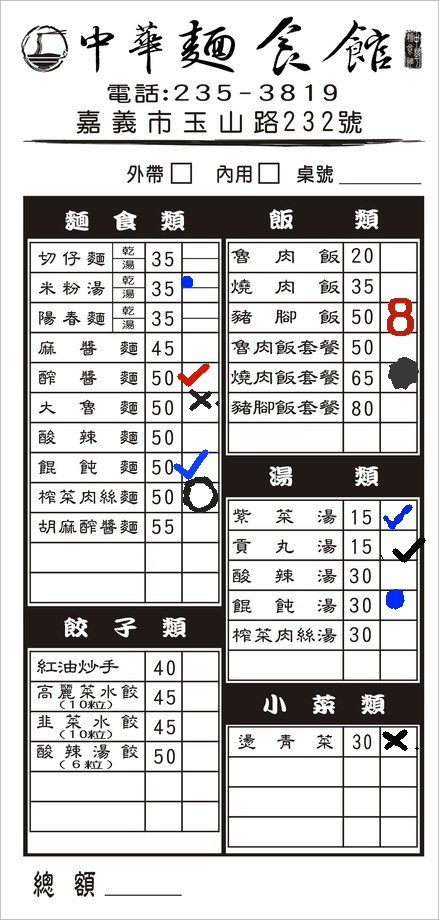marked_circle: (380, 589, 416, 618), (381, 360, 417, 389), (183, 273, 217, 286)
marked_hollow: (181, 483, 217, 512)
marked_number_8: (380, 302, 416, 331)
marked_tick: (381, 500, 417, 529), (380, 531, 416, 560), (179, 453, 215, 482), (182, 362, 218, 391)
marked_x: (181, 392, 217, 421), (380, 726, 416, 755)
